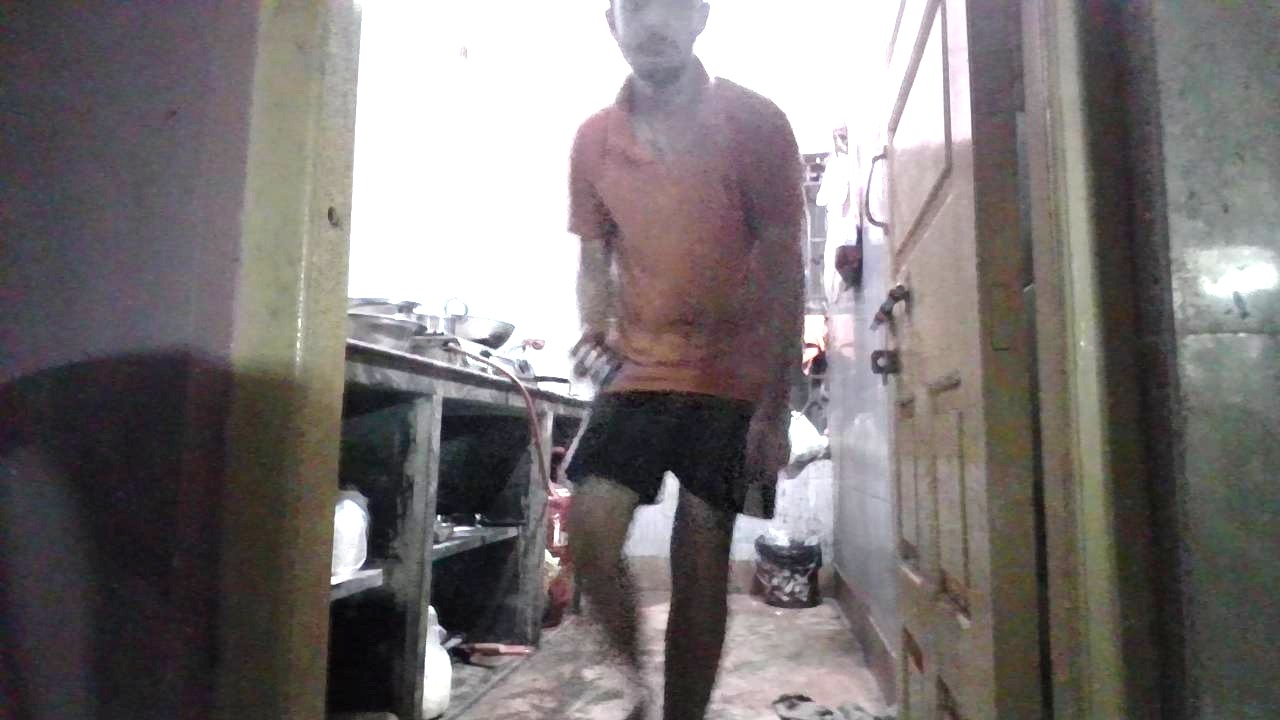red_box: (646, 342, 726, 393)
